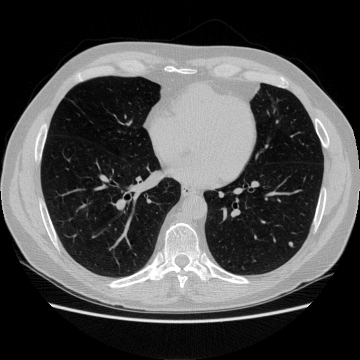nodule: (287, 241, 293, 247)
